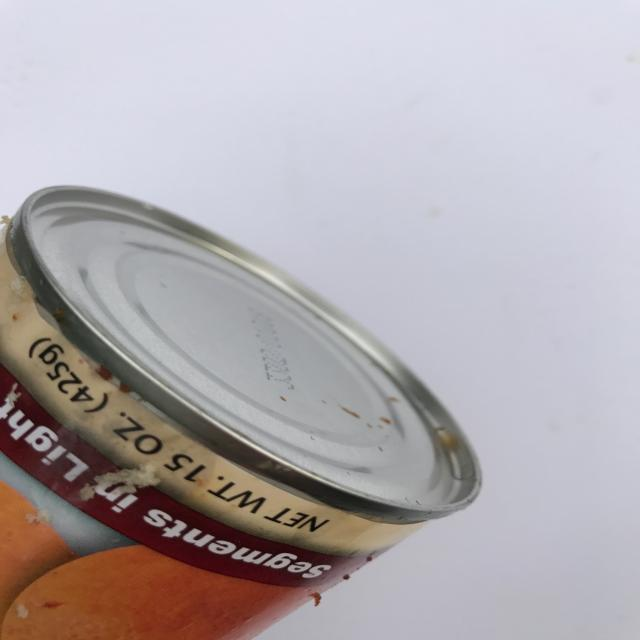metal: (2, 186, 488, 640)
